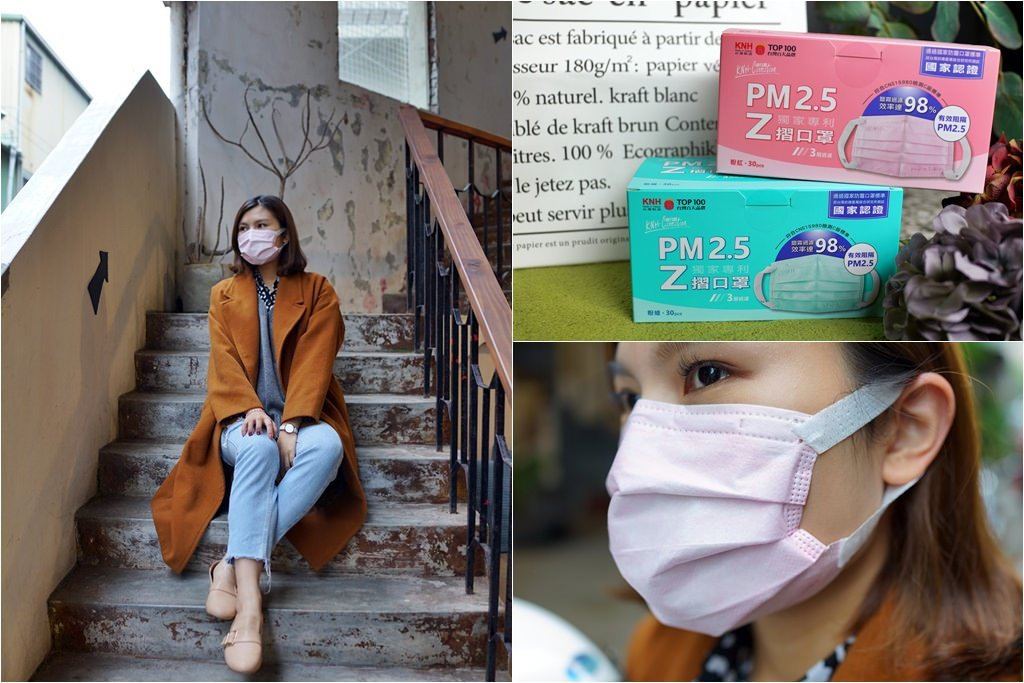Mask: (602, 343, 954, 633), (232, 206, 288, 265)
